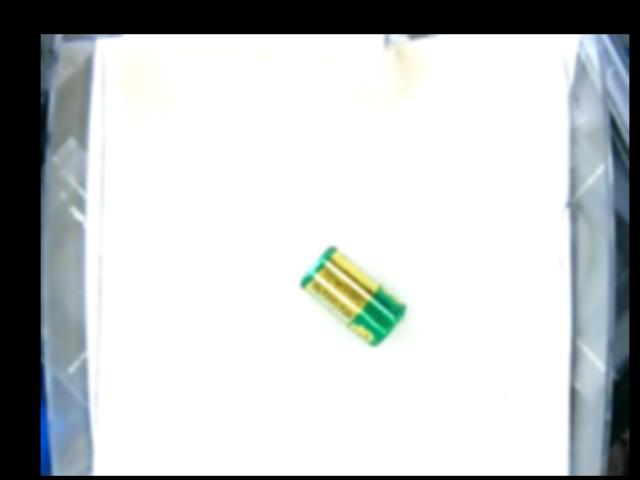Battery: (299, 246, 405, 344)
